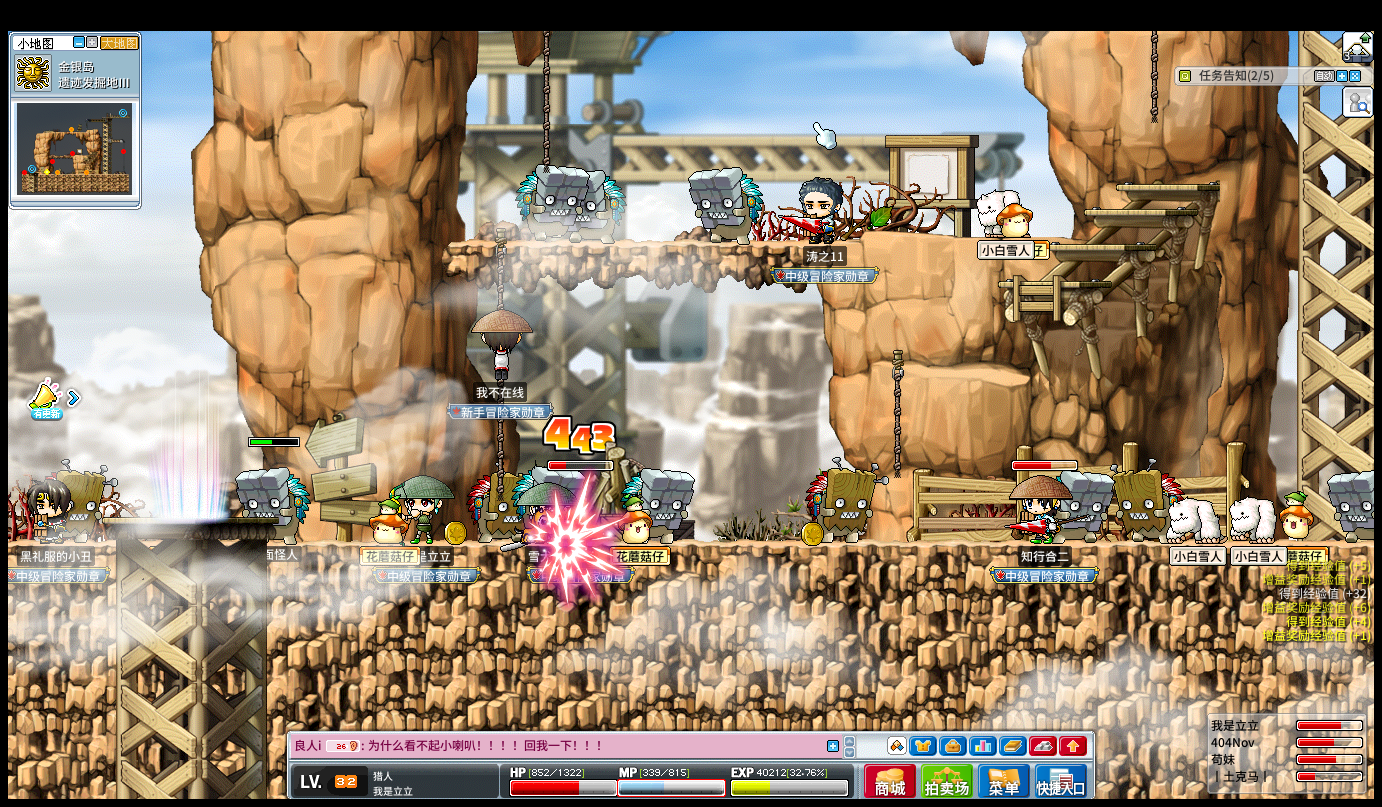floor: (267, 536, 1375, 550), (449, 238, 830, 251), (924, 364, 1031, 385), (102, 516, 280, 526), (6, 539, 117, 552), (995, 279, 1111, 291), (1079, 207, 1192, 216), (996, 280, 1108, 289), (1115, 182, 1219, 190), (1043, 243, 1158, 250), (1115, 184, 1220, 191)
monster: (804, 459, 884, 543), (687, 166, 763, 245), (516, 162, 586, 243), (1113, 462, 1181, 541), (67, 459, 118, 543), (468, 468, 519, 544), (233, 468, 310, 517), (1065, 470, 1114, 542), (1328, 471, 1376, 541), (588, 169, 627, 244)
rope: (889, 349, 903, 480), (542, 29, 551, 170), (492, 231, 505, 311), (1148, 30, 1157, 122)
